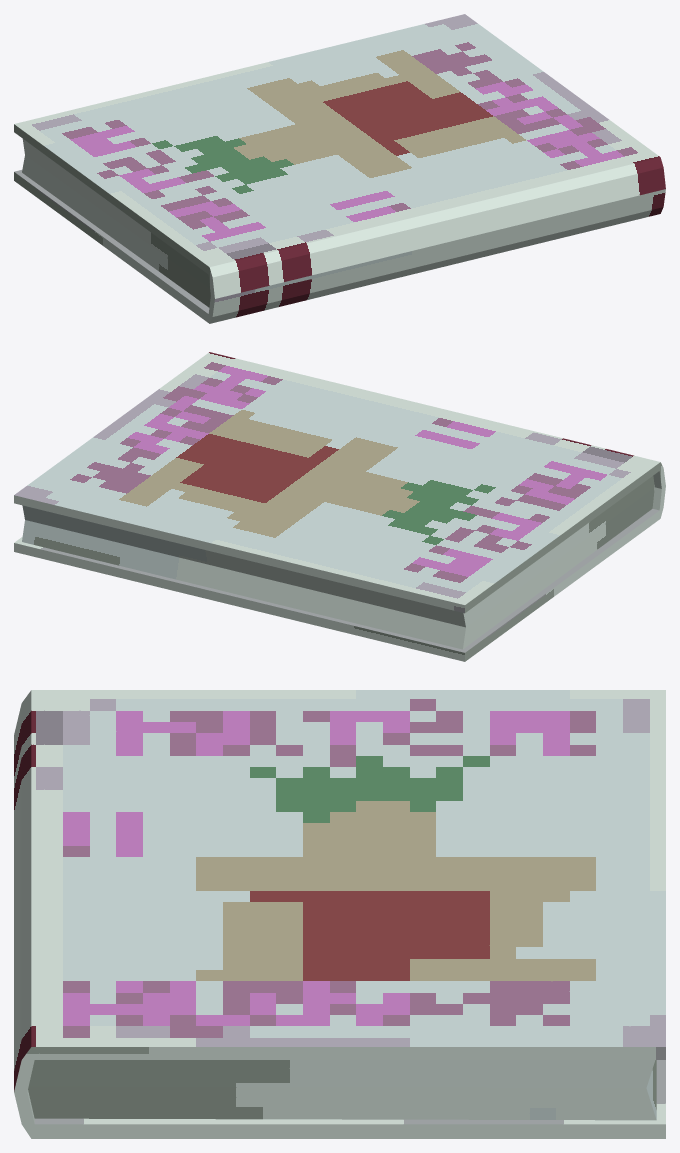
File: Manga1.fbx
3 renders of one model, top to bottom at view 1: azimuth 30°, elevation 25°; view 2: azimuth 150°, elevation 25°; view 3: azimuth 270°, elevation 25°, orthographic. The views are drawn at different scales.
Visible parts, largest first — view 1: Cube.004; view 2: Cube.004; view 3: Cube.004.
Part boxes in pixels (x1=…): Cube.004: x1=14, y1=14, x2=665, y2=323; Cube.004: x1=14, y1=352, x2=665, y2=661; Cube.004: x1=14, y1=690, x2=665, y2=1138.
Bounding box in the file's own units: 188 × 22.58 × 145.
Materials: 1 (1 with a texture image).
